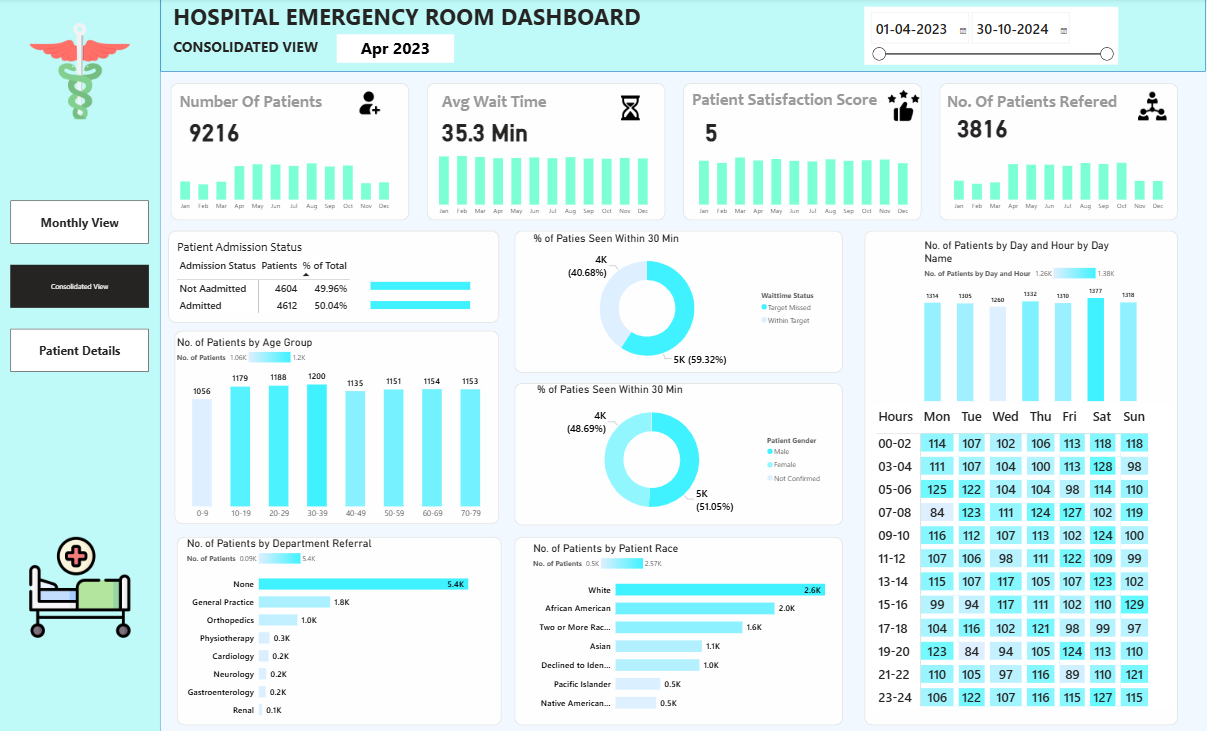

Layout of this report page (visuals, bound fields, positions):
{"tool":"powerbi","page":{"name":"Consolidated View","canvas":[2300,1400],"ordinal":1},"visuals":[{"type":"shape","box":[0,0,309.1,1400.5],"z":0},{"type":"shape","box":[310,0,1990,140],"z":1000},{"type":"textbox","box":[327.5,0,977.5,85],"z":2000},{"type":"shape","box":[328.1,161.7,454.1,261.6],"z":3000},{"type":"textbox","box":[327.5,70,330,72.5],"z":4000},{"type":"card","fields":{"Values":["Hospital ER_Data.No. of Patients"]},"box":[340,206.9,114.1,71.3],"z":5000},{"type":"slicer","fields":{"Values":["Date Table.Date"]},"box":[1647.8,16.6,482.7,109.4],"z":6000},{"type":"textbox","box":[340,171.2,330.5,71.3],"z":7000},{"type":"clusteredColumnChart","fields":{"Category":["Date Table.Month"],"Y":["Hospital ER_Data.No. of Patients"]},"box":[328.1,268.7,435.1,145],"z":8000},{"type":"card","fields":{"Values":["Min(Date Table.Month & Year)"]},"box":[644.4,69,223.5,54.7],"z":9000},{"type":"shape","box":[815.6,161.7,454.1,261.6],"z":10000},{"type":"card","fields":{"Values":["Hospital ER_Data.Avg Wait Time"]},"box":[832.2,216.4,187.8,71.3],"z":11000},{"type":"textbox","box":[832.2,171.2,330.5,71.3],"z":12000},{"type":"clusteredColumnChart","fields":{"Category":["Date Table.Month"],"Y":["Avg(Hospital ER_Data.Patient Waittime)"]},"box":[821.3,278.7,435.1,145],"z":13000},{"type":"shape","box":[1303,161.7,454.1,261.6],"z":14000},{"type":"card","fields":{"Values":["Hospital ER_Data.Satisfaction Score"]},"box":[1300.6,216.4,83.2,71.3],"z":15000},{"type":"textbox","box":[1314.9,168.8,399.5,64.2],"z":16000},{"type":"clusteredColumnChart","fields":{"Category":["Date Table.Month"],"Y":["Hospital ER_Data.Satisfaction Score"]},"box":[1313.9,278.7,435.1,145],"z":17000},{"type":"shape","box":[1790.4,161.7,454.1,261.6],"z":18000},{"type":"card","fields":{"Values":["Hospital ER_Data.No. of Patient Referred"]},"box":[1839.4,216.9,114.1,71.3],"z":19000},{"type":"textbox","box":[1799.9,171.2,394.7,71.3],"z":20000},{"type":"shape","box":[323.4,442.3,630.1,176],"z":21000},{"type":"clusteredColumnChart","fields":{"Category":["Date Table.Month"],"Y":["Hospital ER_Data.No. of Patient Referred"]},"box":[1799.9,268.7,435.1,145],"z":22000},{"type":"pivotTable","title":"Patient Admission Status","fields":{"Rows":["Hospital ER_Data.Admission Status"],"Values":["Hospital ER_Data.No. of Patients1","Hospital ER_Data.No. of Patients"]},"box":[335.3,458.9,575.4,159.3],"z":23000},{"type":"barChart","fields":{"Category":["Hospital ER_Data.Admission Status"],"Y":["Hospital ER_Data.No. of Patients"]},"box":[703.8,508.8,256.8,109.4],"z":24000},{"type":"shape","box":[335.3,632.5,618.2,368.5],"z":25000},{"type":"shape","box":[340,1024.8,618.2,359],"z":26000},{"type":"clusteredColumnChart","fields":{"Category":["Hospital ER_Data.Age Group"],"Y":["Hospital ER_Data.No. of Patients"]},"box":[335.3,642,618.2,359],"z":27000},{"type":"clusteredBarChart","fields":{"Category":["Hospital ER_Data.Department Referral"],"Y":["Hospital ER_Data.No. of Patients"]},"box":[354.3,1024.8,573,359],"z":28000},{"type":"shape","box":[982,442.3,625.3,271.1],"z":29000},{"type":"donutChart","title":"% of Paties Seen Within 30 Min","fields":{"Category":["Hospital ER_Data.Waittime Status"],"Y":["Hospital ER_Data.No. of Patients"]},"box":[1012.9,444.6,558.8,268.7],"z":30000},{"type":"shape","box":[982,732.3,625.3,271.1],"z":31000},{"type":"donutChart","title":"% of Paties Seen Within 30 Min","fields":{"Y":["Hospital ER_Data.No. of Patients"],"Category":["Hospital ER_Data.Patient Gender"]},"box":[1020,732.3,558.8,268.7],"z":32000},{"type":"shape","box":[982,1024.8,625.3,359],"z":33000},{"type":"clusteredBarChart","fields":{"Category":["Hospital ER_Data.Patient Race"],"Y":["Hospital ER_Data.No. of Patients"]},"box":[1012.9,1034.3,594.4,337.6],"z":34000},{"type":"shape","box":[1647.8,442.3,596.8,941.6],"z":35000},{"type":"pivotTable","fields":{"Columns":["Date Table.Day Name"],"Rows":["Hospital ER_Data.WaitTime Interval"],"Values":["Hospital ER_Data.No. of Patients"]},"box":[1664.4,772.8,570.7,580.2],"z":36000},{"type":"columnChart","fields":{"Category":["Date Table.Day Name"],"Y":["Hospital ER_Data.No. of Patients"]},"box":[1757.1,458.9,416.1,313.9],"z":37000},{"type":"pageNavigator","box":[23.8,385.2,263.9,328.1],"z":38000},{"type":"image","box":[672.5,175,65,47.5],"z":44001},{"type":"image","box":[1180,185,47.5,47.5],"z":44002},{"type":"image","box":[1688.2,168.8,69,71.3],"z":44003},{"type":"image","box":[2166.1,178.3,59.4,54.7],"z":44004},{"type":"image","box":[59.4,1003.4,192.6,235.4],"z":44005},{"type":"image","box":[49.9,47.6,211.6,183.1],"z":44006}]}

Visuals, with their boxes in screenshot pixels (x1, y1, x2, y2), scaled from the page's 2300x1400 canvas onto the 1207x731 screenshot:
shape: [0, 0, 162, 730]
shape: [163, 0, 1206, 73]
textbox: [172, 0, 685, 44]
shape: [172, 84, 410, 221]
textbox: [172, 37, 345, 74]
card - Hospital ER_Data.No. of Patients: [178, 108, 238, 145]
slicer - Date Table.Date: [865, 9, 1118, 66]
textbox: [178, 89, 352, 127]
clusteredColumnChart - Date Table.Month x Hospital ER_Data.No. of Patients: [172, 140, 401, 216]
card - Min(Date Table.Month & Year): [338, 36, 455, 65]
shape: [428, 84, 666, 221]
card - Hospital ER_Data.Avg Wait Time: [437, 113, 535, 150]
textbox: [437, 89, 610, 127]
clusteredColumnChart - Date Table.Month x Avg(Hospital ER_Data.Patient Waittime): [431, 146, 659, 221]
shape: [684, 84, 922, 221]
card - Hospital ER_Data.Satisfaction Score: [683, 113, 726, 150]
textbox: [690, 88, 900, 122]
clusteredColumnChart - Date Table.Month x Hospital ER_Data.Satisfaction Score: [690, 146, 918, 221]
shape: [940, 84, 1178, 221]
card - Hospital ER_Data.No. of Patient Referred: [965, 113, 1025, 150]
textbox: [945, 89, 1152, 127]
shape: [170, 231, 500, 323]
clusteredColumnChart - Date Table.Month x Hospital ER_Data.No. of Patient Referred: [945, 140, 1173, 216]
"Patient Admission Status" pivotTable: [176, 240, 478, 323]
barChart - Hospital ER_Data.Admission Status x Hospital ER_Data.No. of Patients: [369, 266, 504, 323]
shape: [176, 330, 500, 523]
shape: [178, 535, 503, 723]
clusteredColumnChart - Hospital ER_Data.Age Group x Hospital ER_Data.No. of Patients: [176, 335, 500, 523]
clusteredBarChart - Hospital ER_Data.Department Referral x Hospital ER_Data.No. of Patients: [186, 535, 487, 723]
shape: [515, 231, 843, 372]
"% of Paties Seen Within 30 Min" donutChart: [532, 232, 825, 372]
shape: [515, 382, 843, 524]
"% of Paties Seen Within 30 Min" donutChart: [535, 382, 829, 523]
shape: [515, 535, 843, 723]
clusteredBarChart - Hospital ER_Data.Patient Race x Hospital ER_Data.No. of Patients: [532, 540, 843, 716]
shape: [865, 231, 1178, 723]
pivotTable - Date Table.Day Name x Hospital ER_Data.WaitTime Interval: [873, 404, 1173, 706]
columnChart - Date Table.Day Name x Hospital ER_Data.No. of Patients: [922, 240, 1140, 404]
pageNavigator: [12, 201, 151, 372]
image: [353, 91, 387, 116]
image: [619, 97, 644, 121]
image: [886, 88, 922, 125]
image: [1137, 93, 1168, 122]
image: [31, 524, 132, 647]
image: [26, 25, 137, 120]
